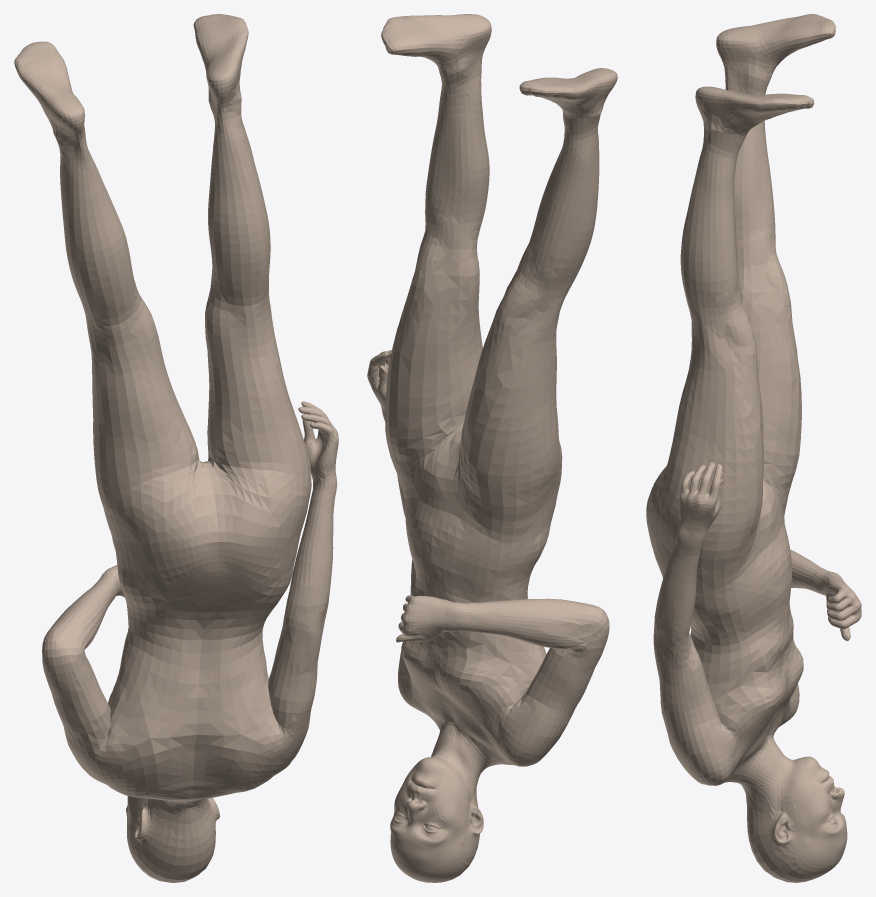
File: avatar_woman.glb
3 renders of one model, left to right at view 1: azimuth 30°, elevation 25°; view 2: azimuth 150°, elevation 25°; view 3: azimuth 270°, elevation 25°, orthographic. The views are drawn at different scales.
Visible parts, largest first — view 1: world; view 2: world; view 3: world.
Part boxes in pixels (left/top/right/bottom): world: left=14, top=14, right=338, bottom=882; world: left=367, top=14, right=617, bottom=882; world: left=646, top=14, right=861, bottom=882.
Size of the model in its own units: 0.5524 by 1.69 by 0.4114.
